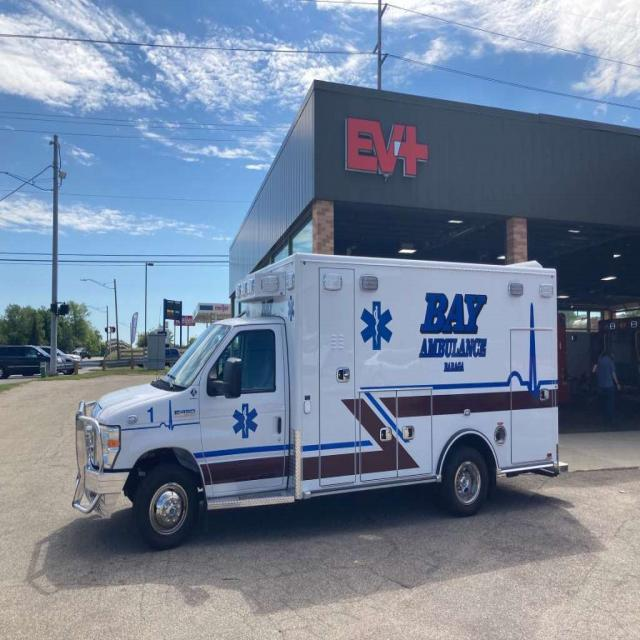emergency-vehicle: (37, 230, 577, 541)
